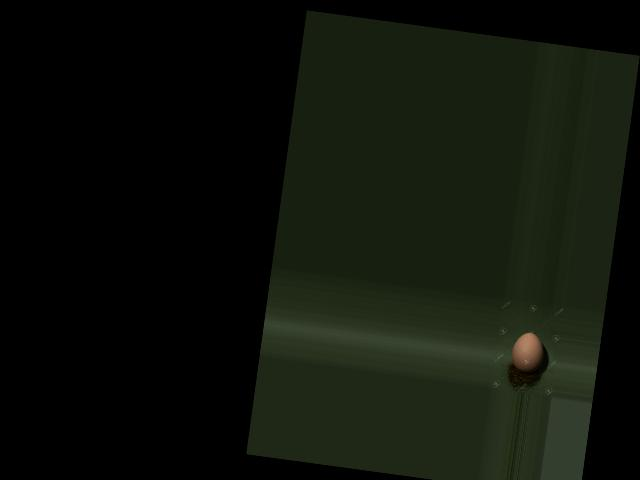egg: (510, 330, 546, 374)
